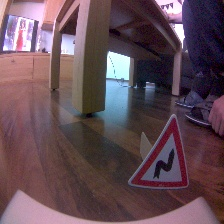vorsicht: (124, 113, 191, 190)
